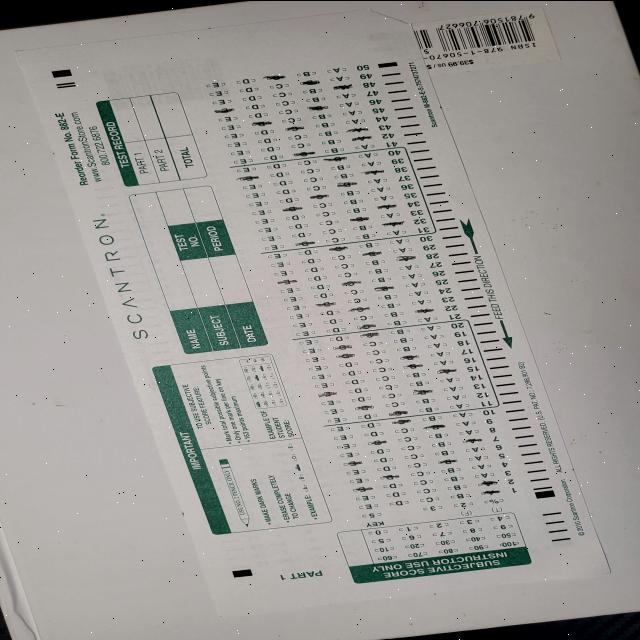scantron: (13, 8, 612, 617)
